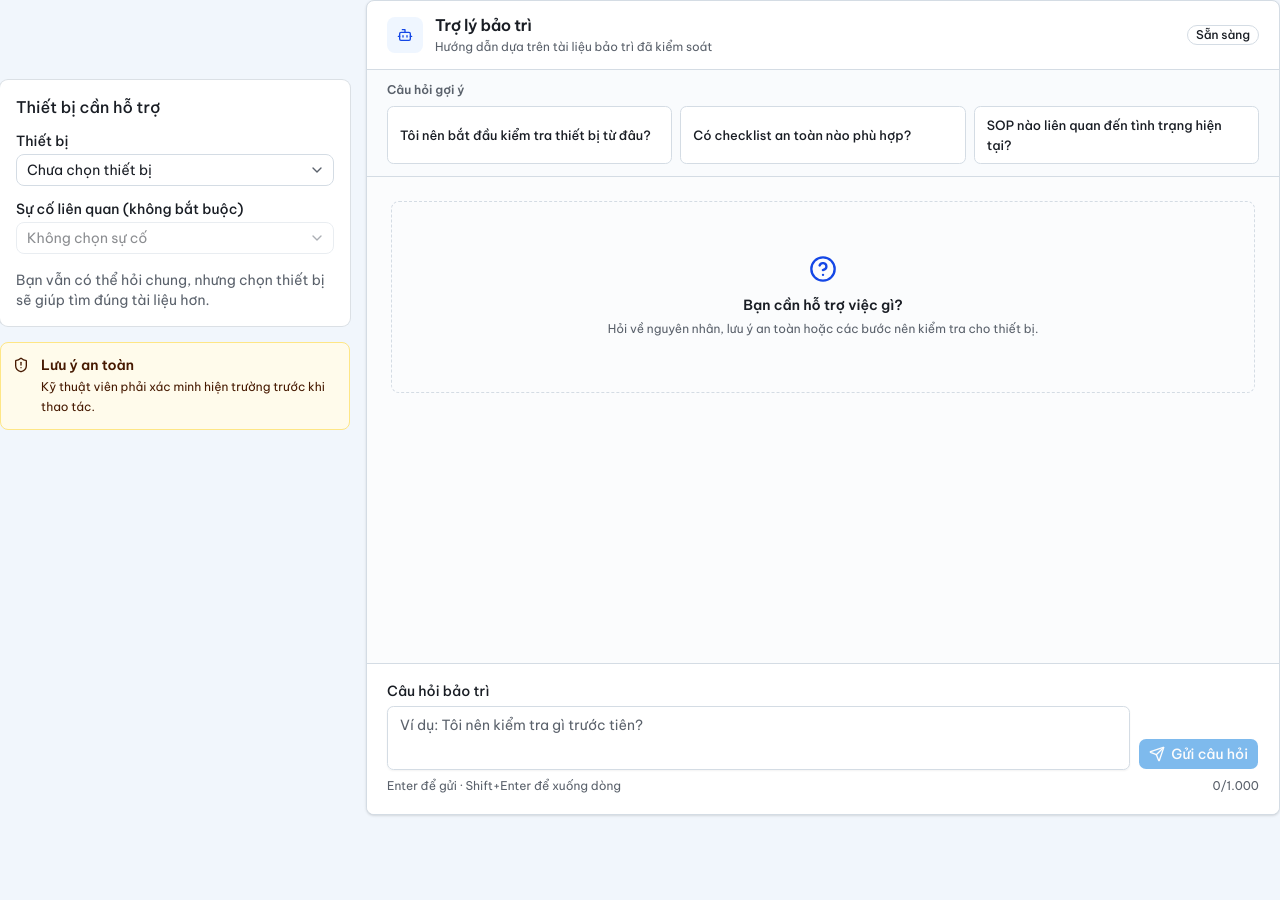
Test: live Copilot workspace › submits a standalone question and shows an unrelated safe fallback
The image size is (1280, 900).
Step 1. Type "Hôm nay thời tiết thế nào?" into the text box labelled "Câu hỏi bảo trì" → x=759, y=738, box [387,706,1130,770]
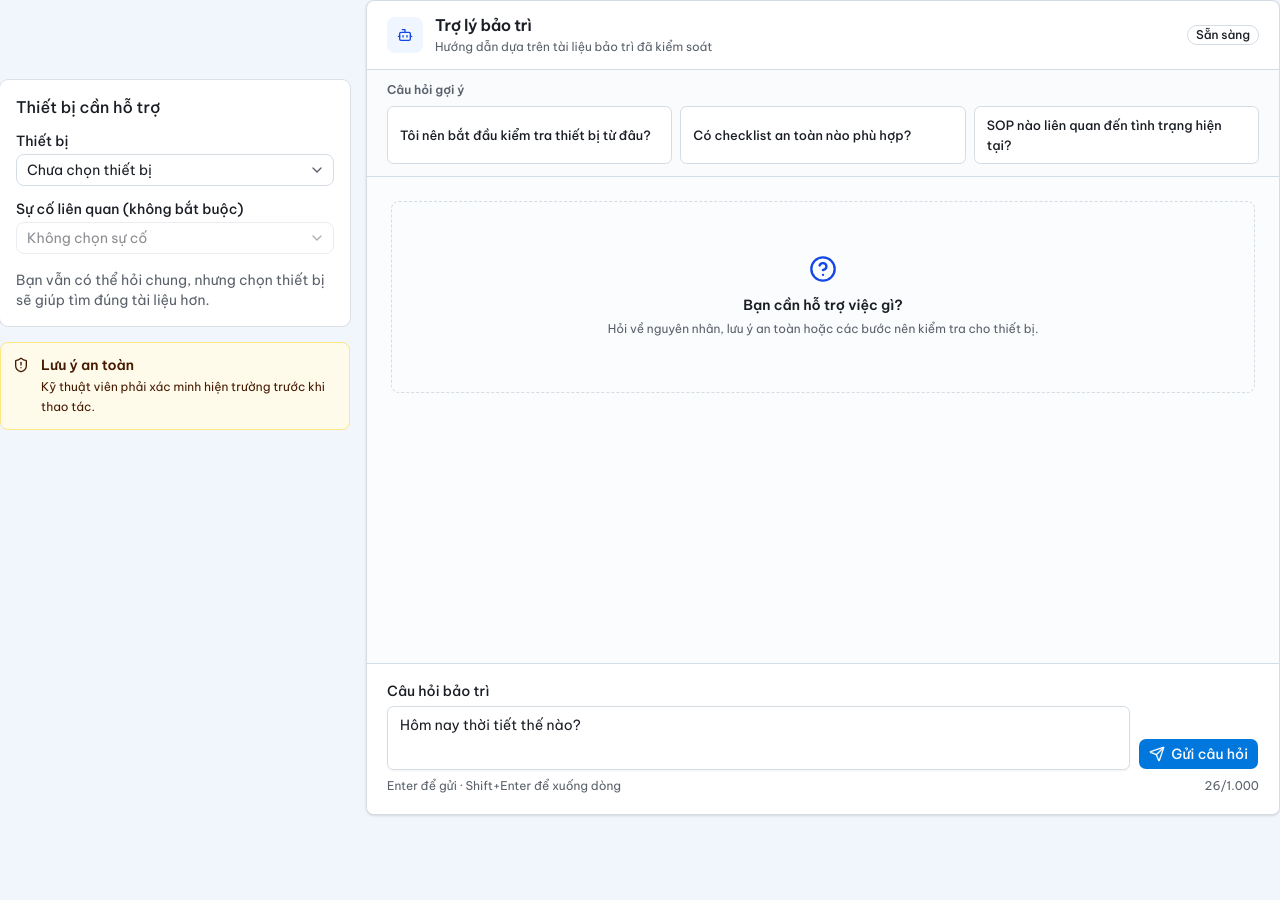
Step 2. Press Enter in the text box labelled "Câu hỏi bảo trì", box [387,706,1130,770]
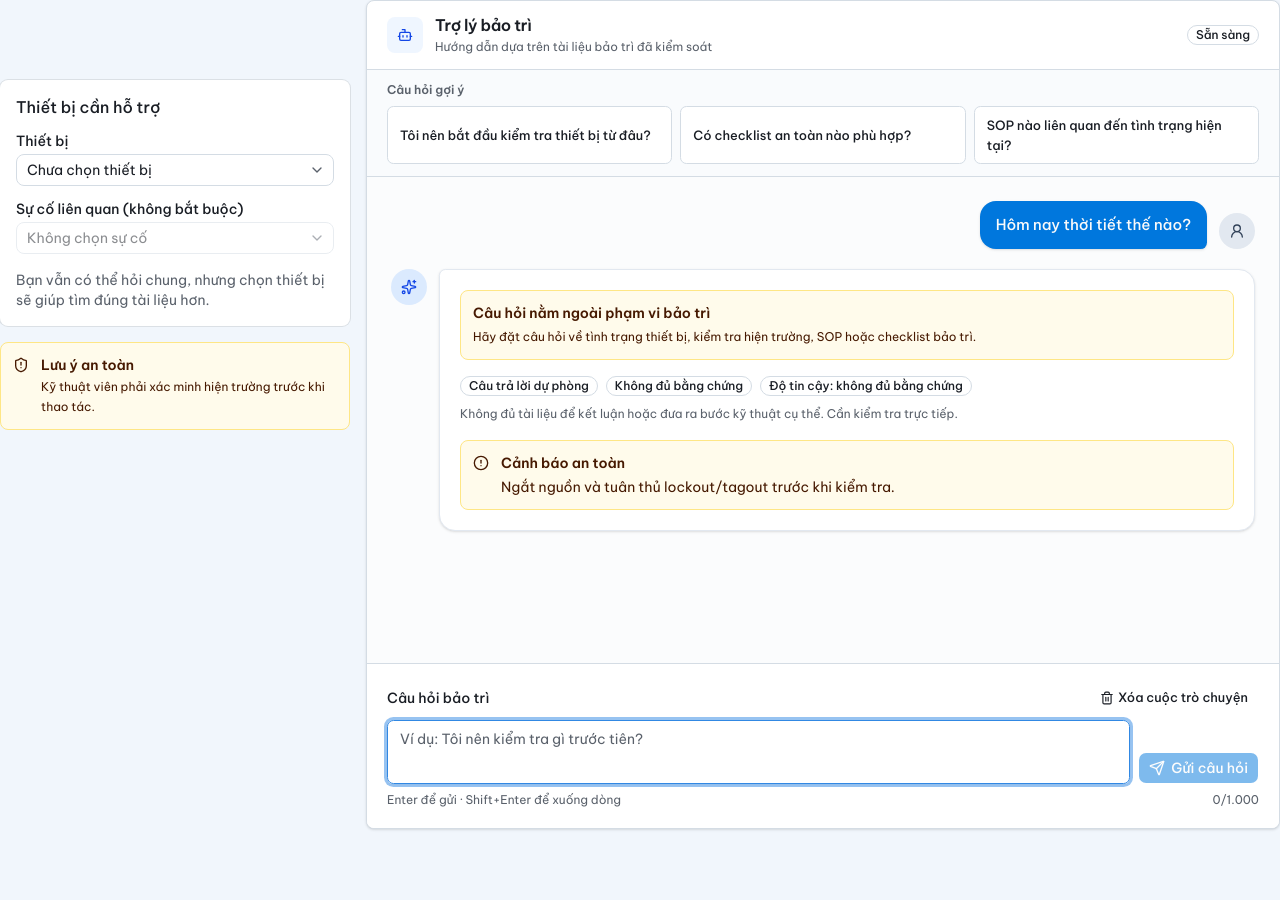
Check: the text "Câu hỏi nằm ngoài phạm vi bảo trì" is shown, box [473,304,710,322]
